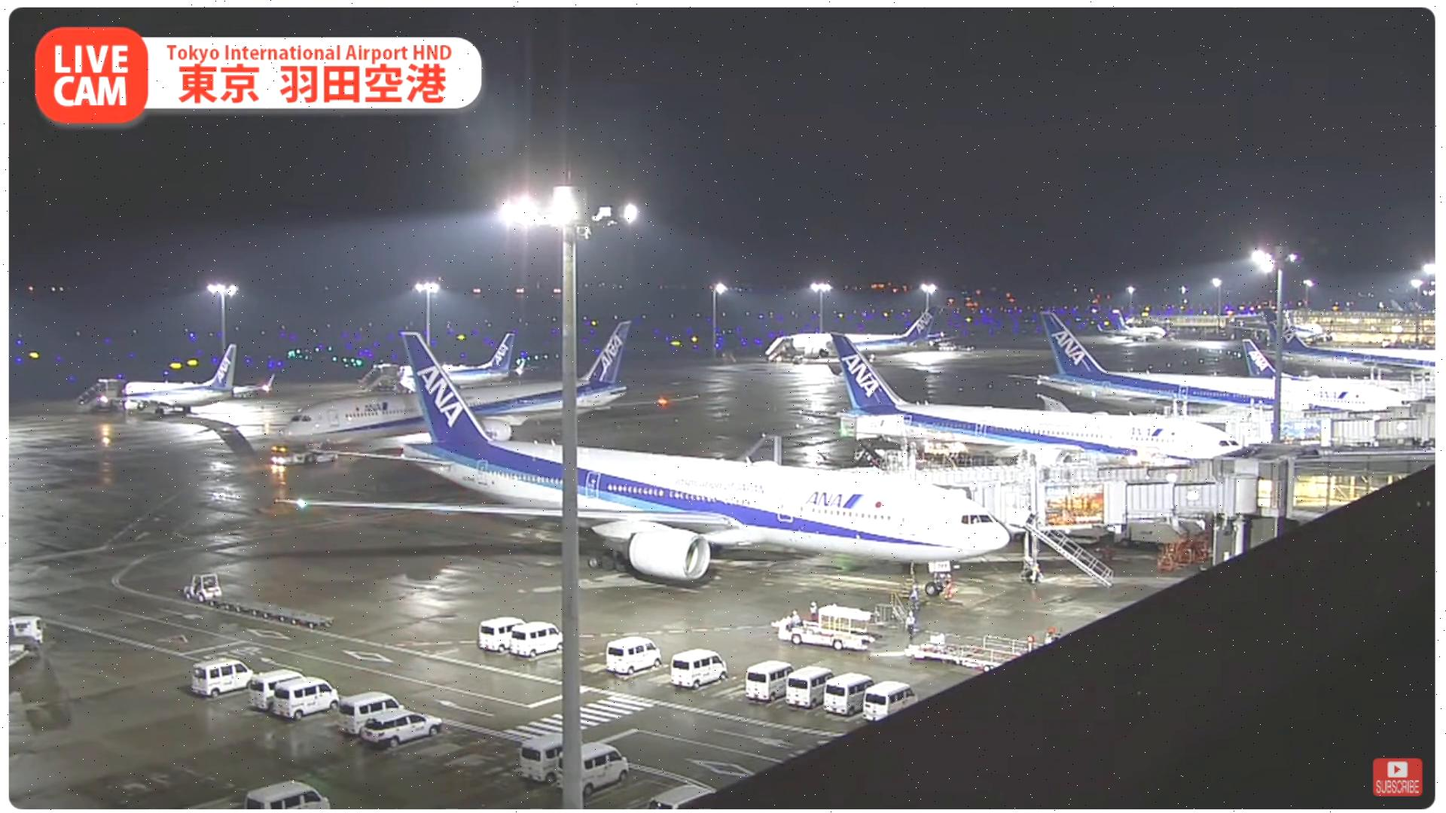Aerobridge: (989, 471, 1284, 539), (899, 458, 1292, 499)
Airplane: (263, 328, 1015, 586)
Dolly: (213, 590, 351, 638)
JCPL: (900, 638, 1016, 674), (926, 632, 1048, 654)
Skyloader: (768, 596, 885, 662)
Tractor: (177, 566, 228, 609)
Window: (1286, 461, 1434, 519)
